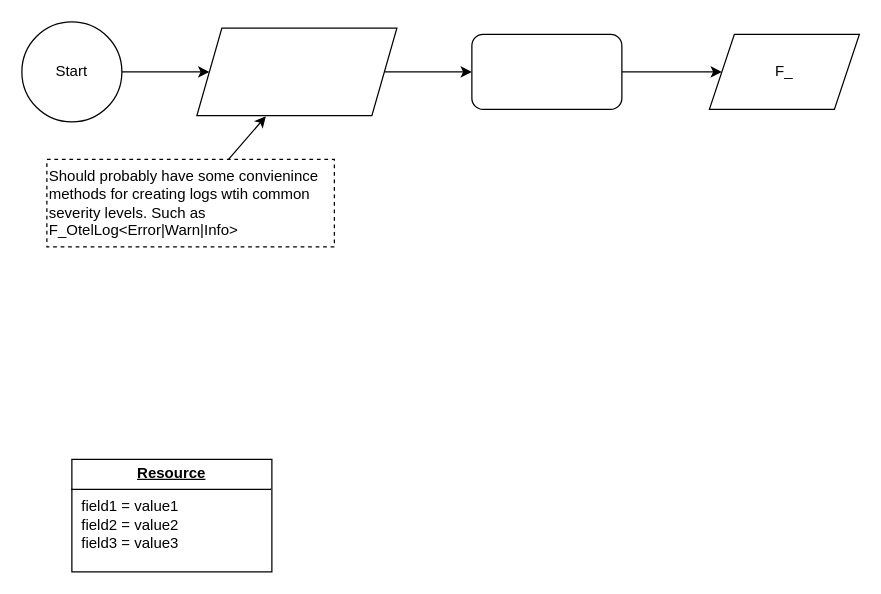
Some shapes in this 881 by 594 pixel diagram are drawn without their labels. Here are the shapes that lost their labels. From the top down, the box of each, then its label:
(196, 27, 397, 116): FB_OtelLogger.Log()
(471, 33, 622, 109): ST_OtelLog
